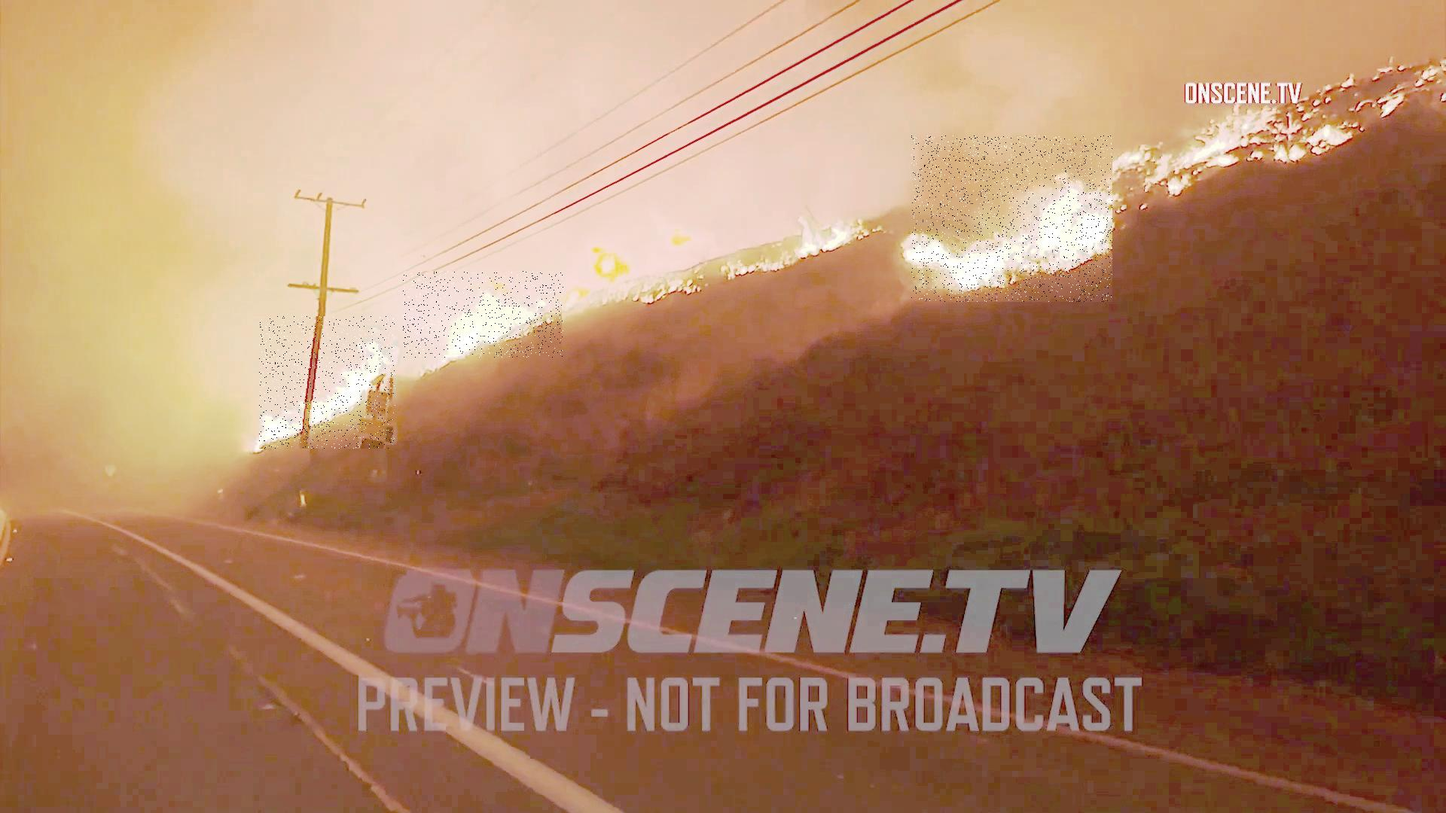fire: (911, 136, 1112, 302), (260, 317, 396, 449), (403, 271, 564, 358)
